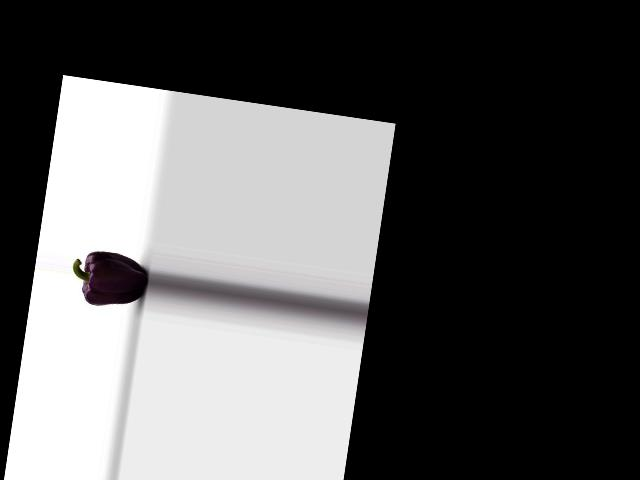bell_pepper: (68, 241, 149, 316)
